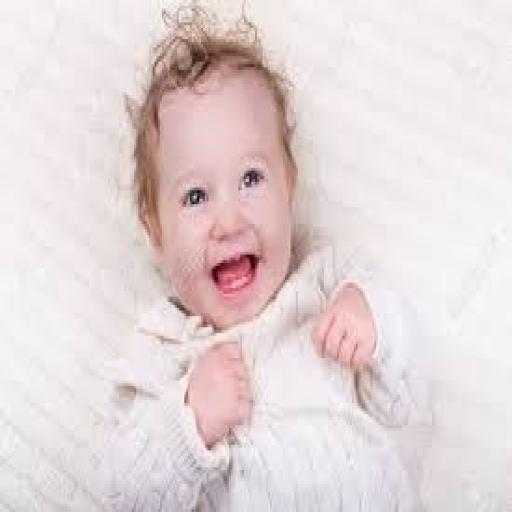laughing: (95, 3, 430, 506)
